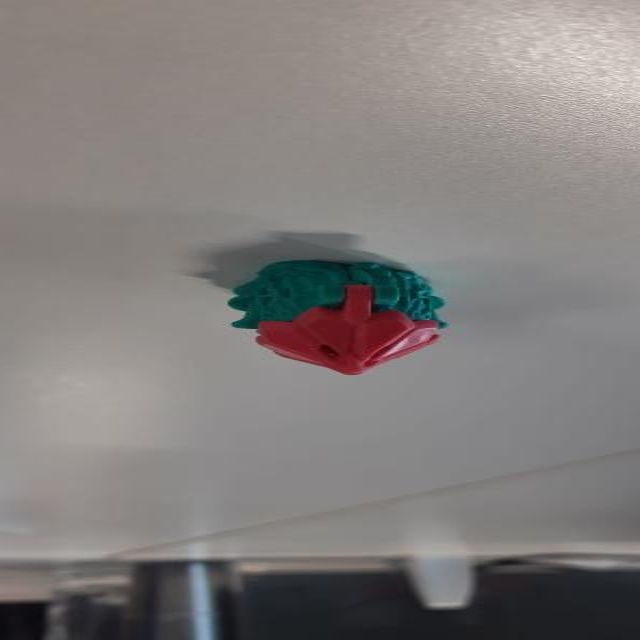House: (215, 258, 458, 382)
